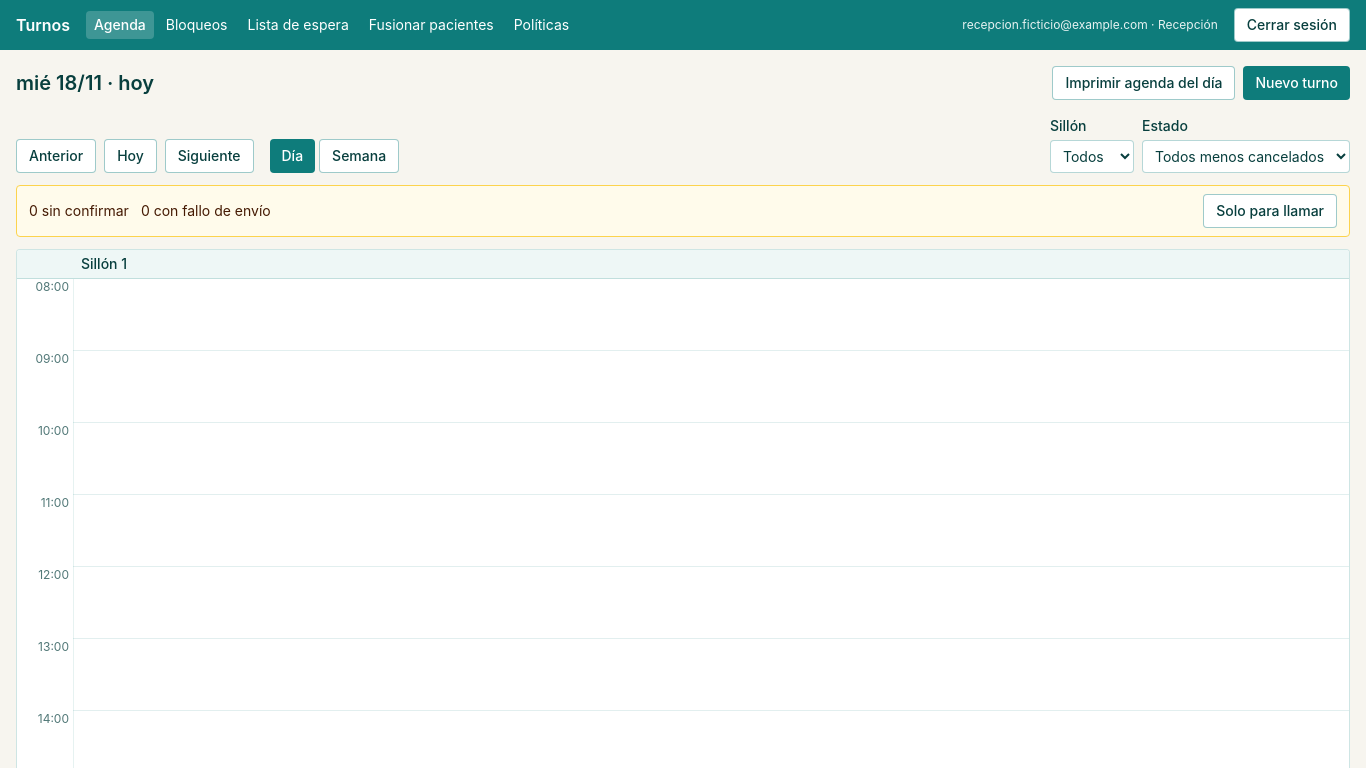
rutas protegidas › cerrar sesión vuelve al login
Click the button "Cerrar sesión": (1292,25) [1234,8,1350,42]
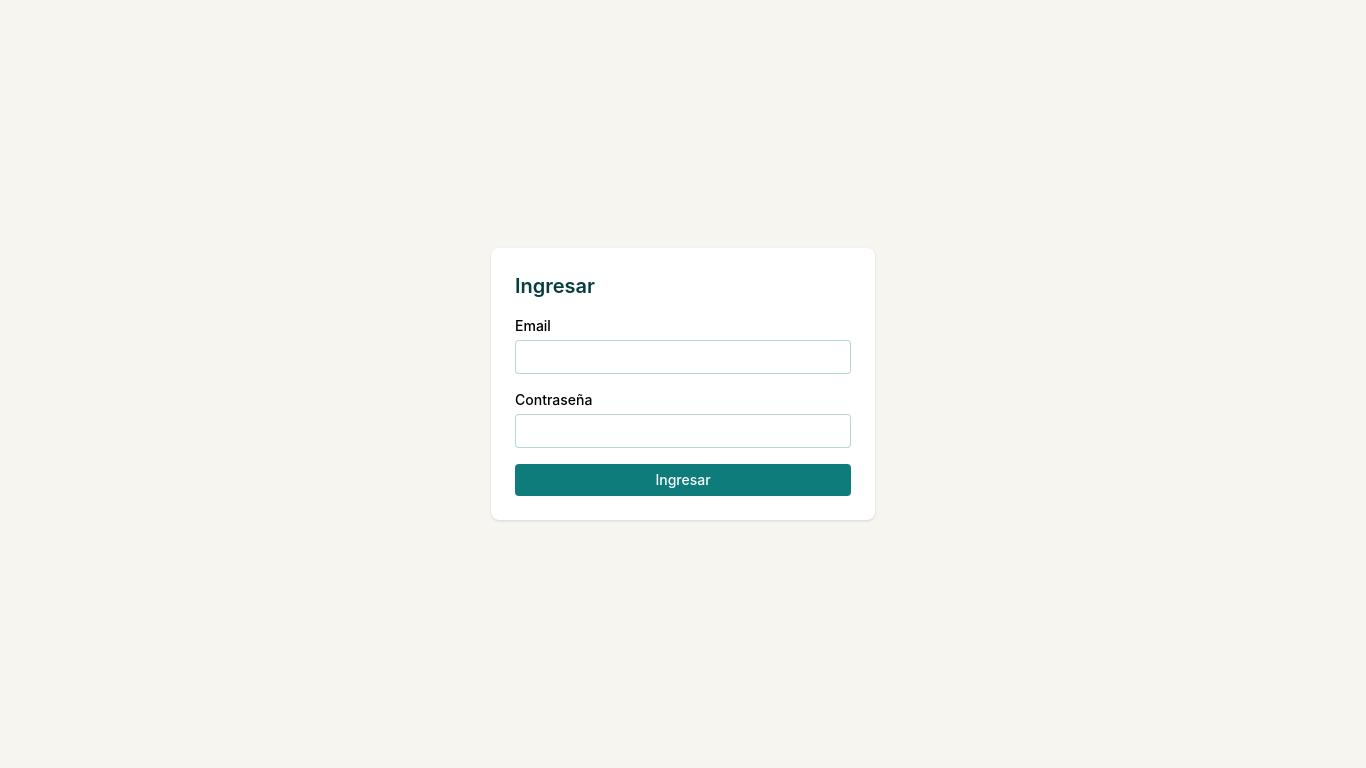
Check: the heading "Ingresar" is shown, box [515,274,595,298]
